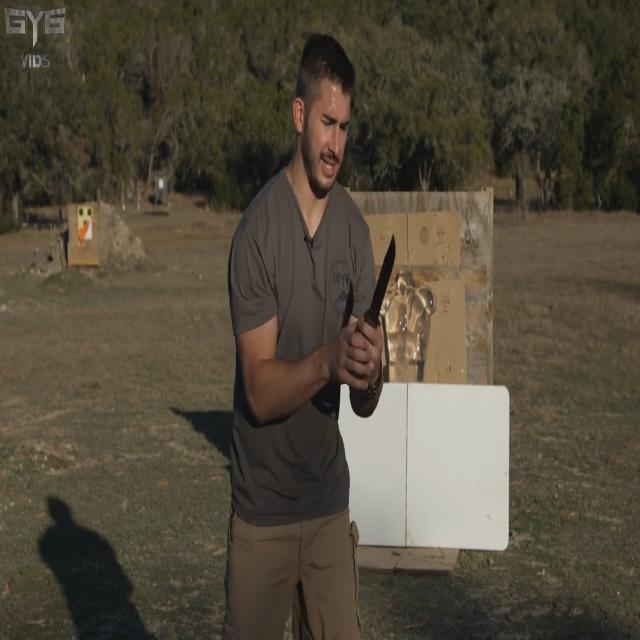knife: (368, 234, 400, 343)
